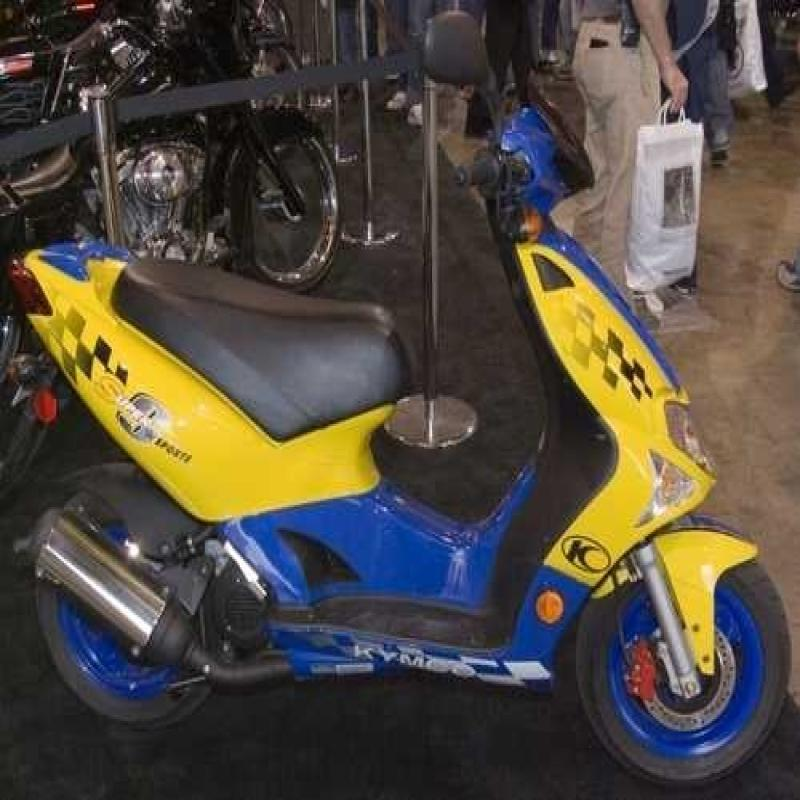bike: (37, 75, 754, 800)
